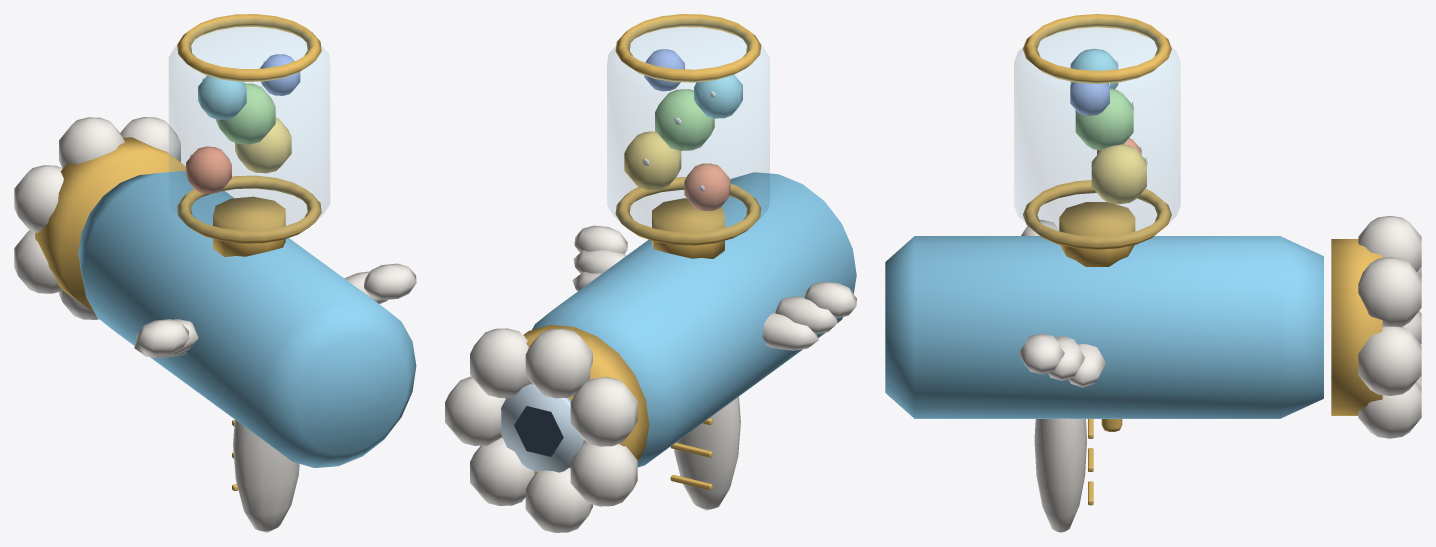
The model's file is foam_cloud.glb.
3 renders of one model, left to right at view 1: azimuth 30°, elevation 25°; view 2: azimuth 150°, elevation 25°; view 3: azimuth 270°, elevation 25°, orthographic. The views are drawn at different scales.
Parts seen in each view (by area): view 1: Body, Bubbles; view 2: Body, Bubbles; view 3: Body, Bubbles.
Boxes of the visible parts, left/top/right/bottom form: Body: left=14, top=14, right=416, bottom=532; Bubbles: left=186, top=54, right=300, bottom=193; Body: left=445, top=14, right=856, bottom=532; Bubbles: left=624, top=49, right=742, bottom=211; Body: left=885, top=14, right=1421, bottom=532; Bubbles: left=1070, top=48, right=1147, bottom=204.
Size of the model in its own units: 0.2465 by 0.4036 by 0.4.
12 materials, 12 textured.
